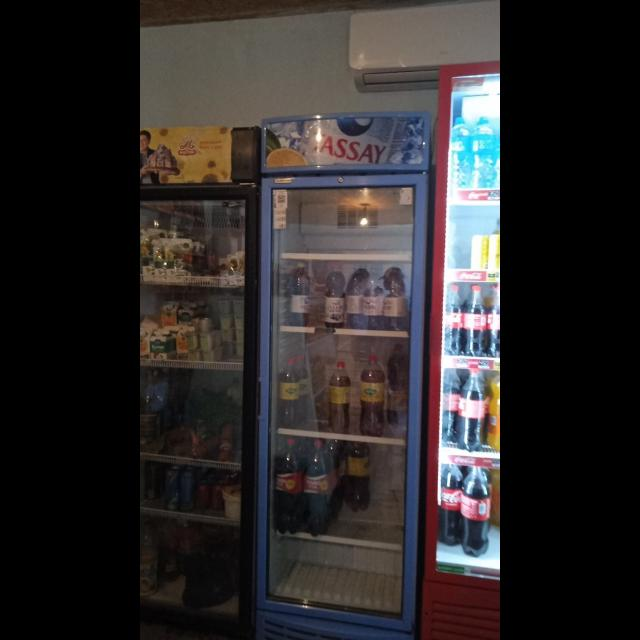Cooling-Display: (254, 110, 432, 640)
